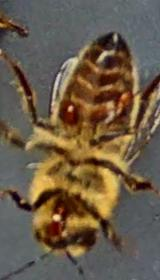varroa_mite: (45, 98, 87, 130), (108, 92, 149, 123)
